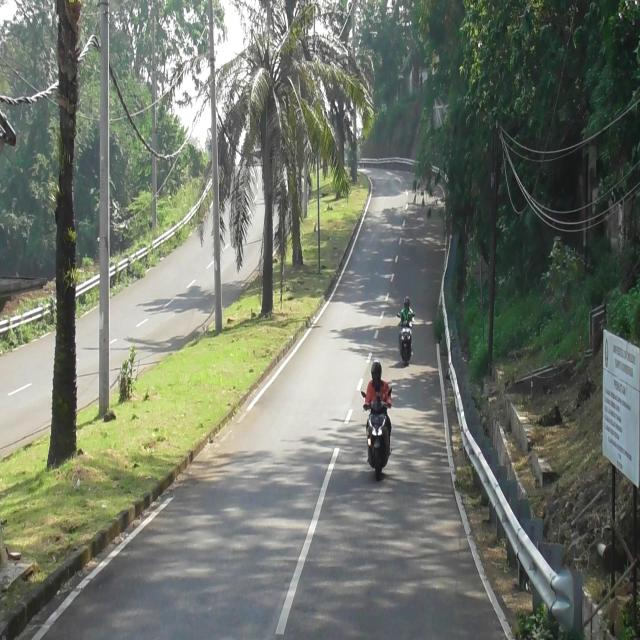motorcycle: (362, 388, 393, 480), (397, 311, 413, 365)
person: (364, 360, 391, 409), (398, 296, 414, 326)
rider_region: (363, 357, 393, 477), (397, 300, 416, 368)
